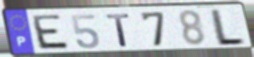5: (69, 13, 102, 50)
7: (140, 11, 168, 48)
8: (177, 9, 207, 48)
E: (31, 14, 72, 52)
L: (210, 8, 246, 48)
T: (105, 12, 133, 48)
